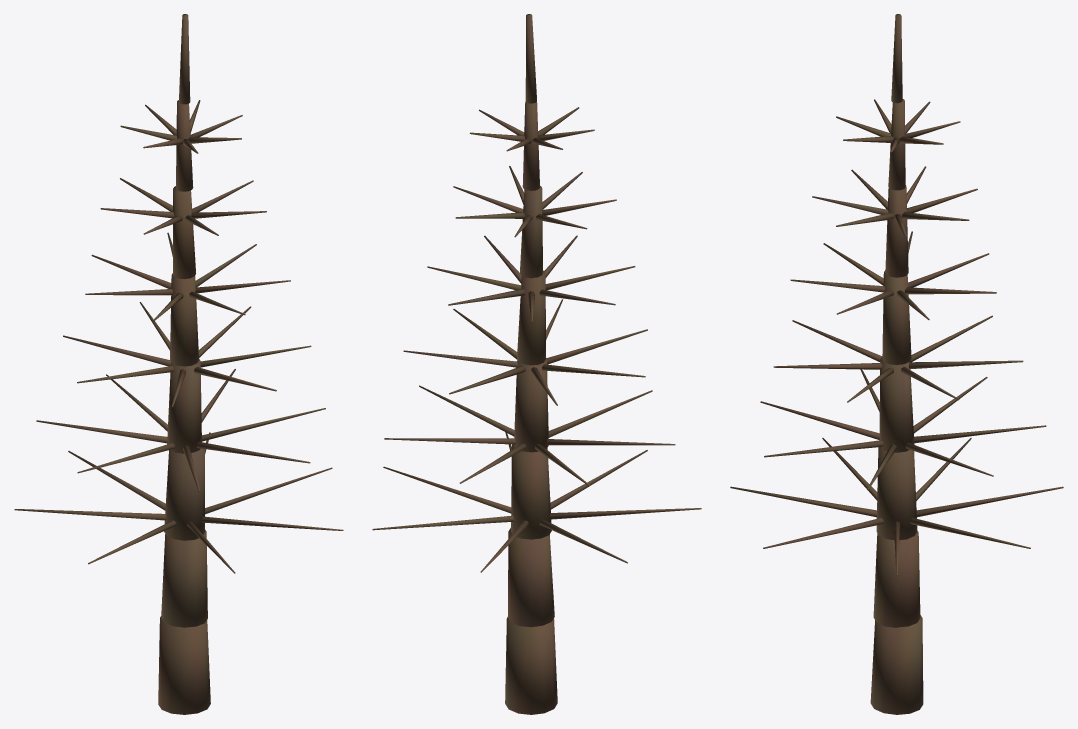
The model's file is SM_ConiferTrunk.fbx.
3 views of the same model, side by side, from view 1: azimuth 30°, elevation 25°; view 2: azimuth 150°, elevation 25°; view 3: azimuth 270°, elevation 25° (orthographic).
Parts seen in each view (by area): view 1: SM_ConiferTrunk; view 2: SM_ConiferTrunk; view 3: SM_ConiferTrunk.
Part boxes in pixels (<box>): SM_ConiferTrunk: <box>14,14,343,714</box>; SM_ConiferTrunk: <box>372,14,701,714</box>; SM_ConiferTrunk: <box>730,14,1063,714</box>.
Size of what is drawn, in the model's own units: 837 by 859 by 1962.
